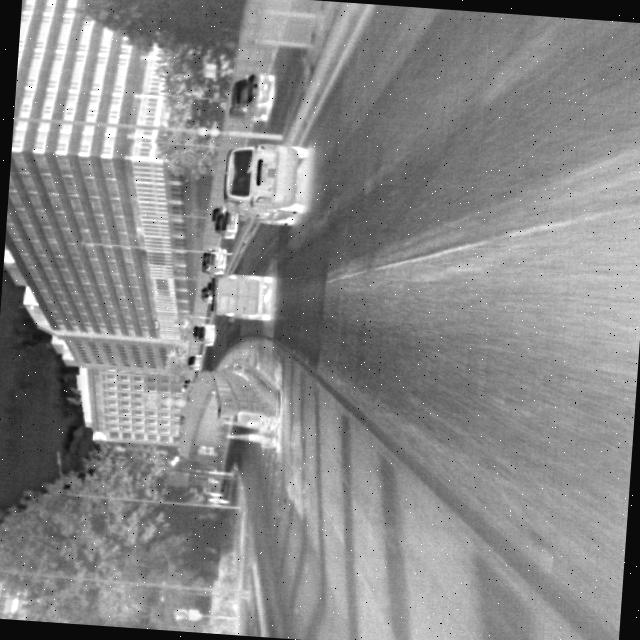Vehicle: (217, 138, 310, 228), (208, 270, 274, 322), (224, 69, 278, 124)
